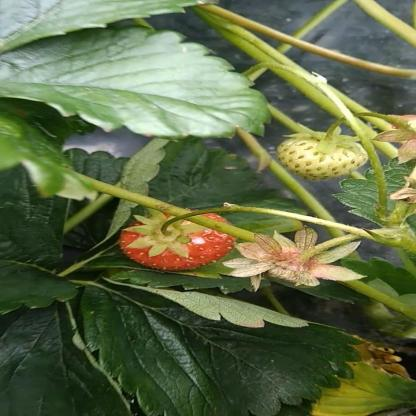ripe: (124, 210, 236, 272)
unripe: (271, 129, 371, 183)
